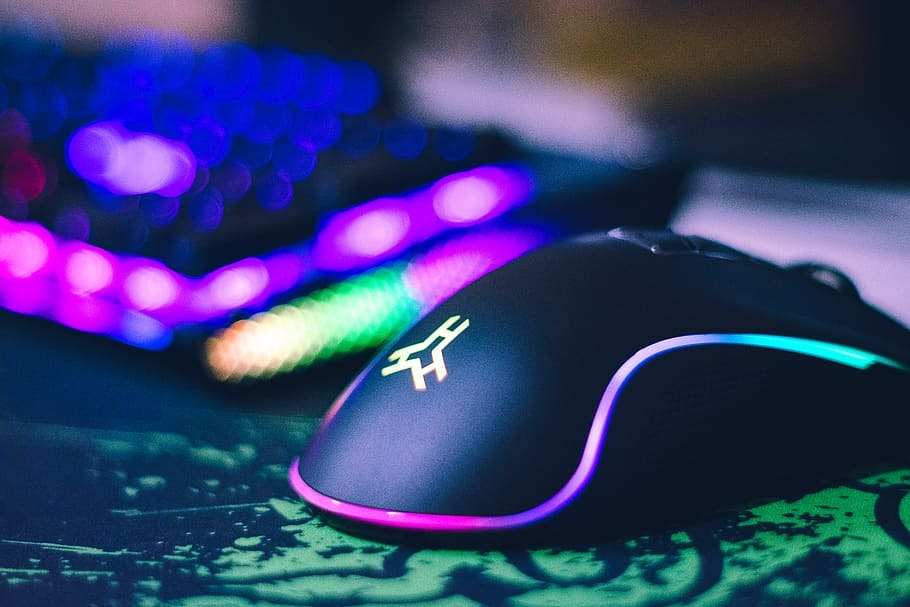mouse: (281, 223, 910, 578)
